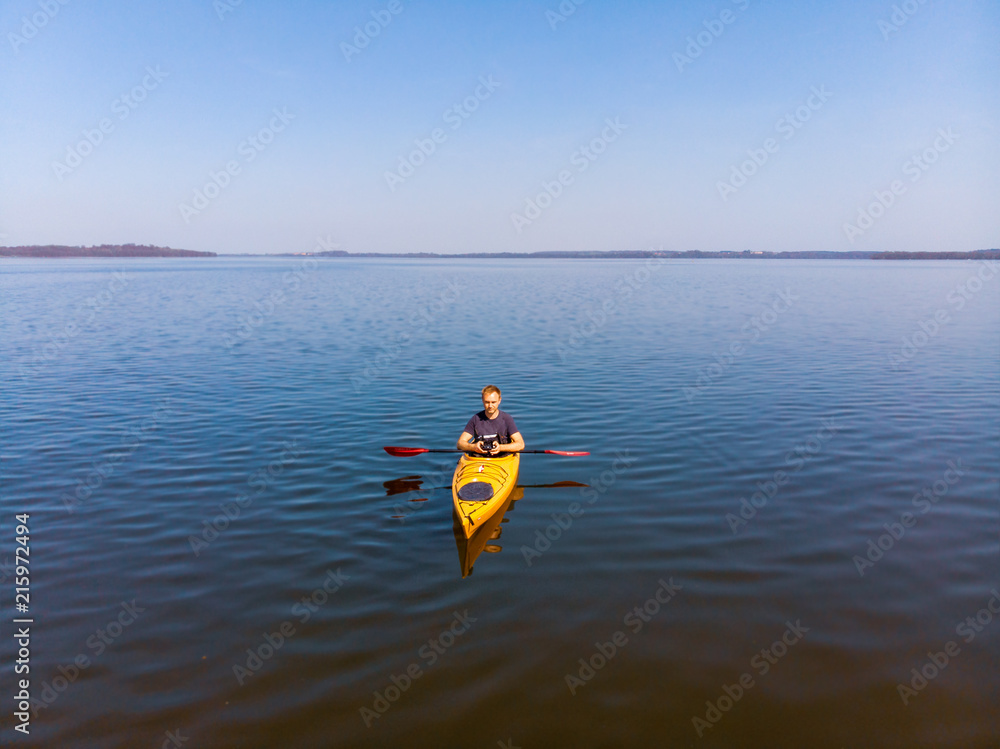kayaker: (381, 382, 592, 578)
